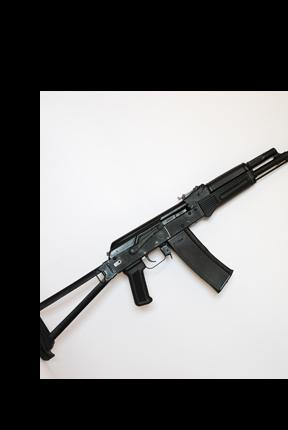larga: (40, 145, 288, 361)
